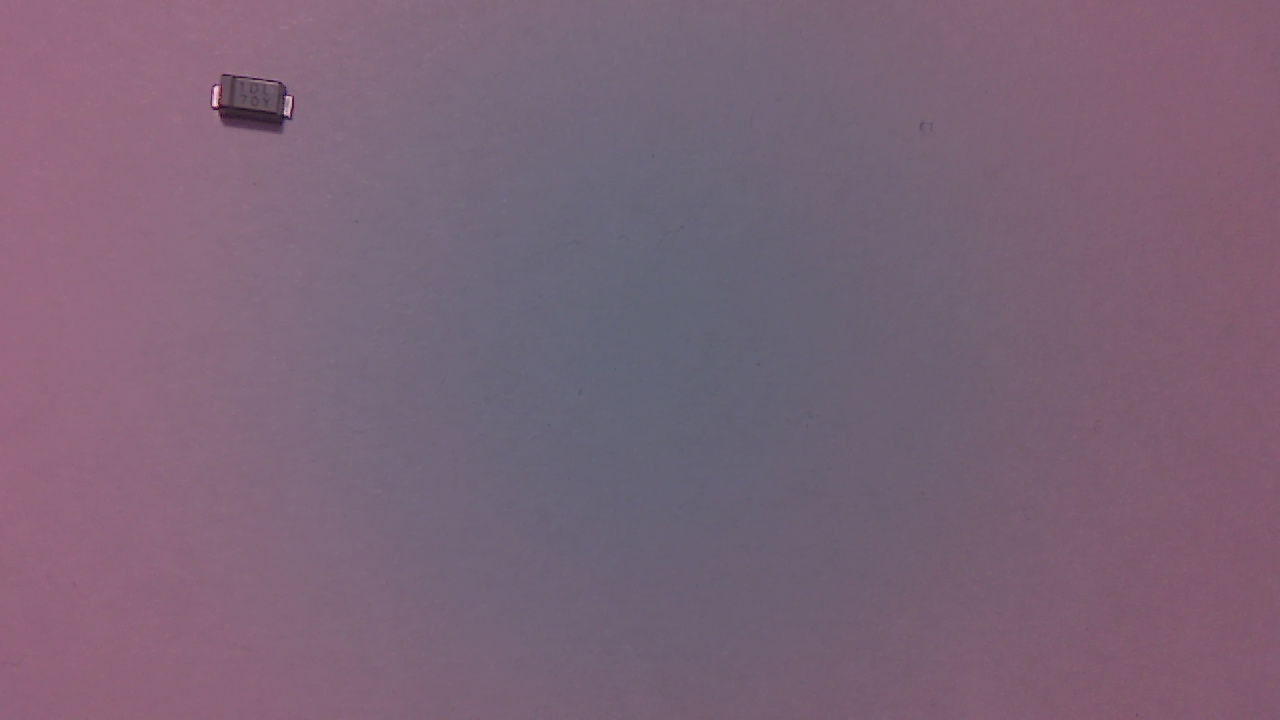Diode: (211, 72, 307, 142)
